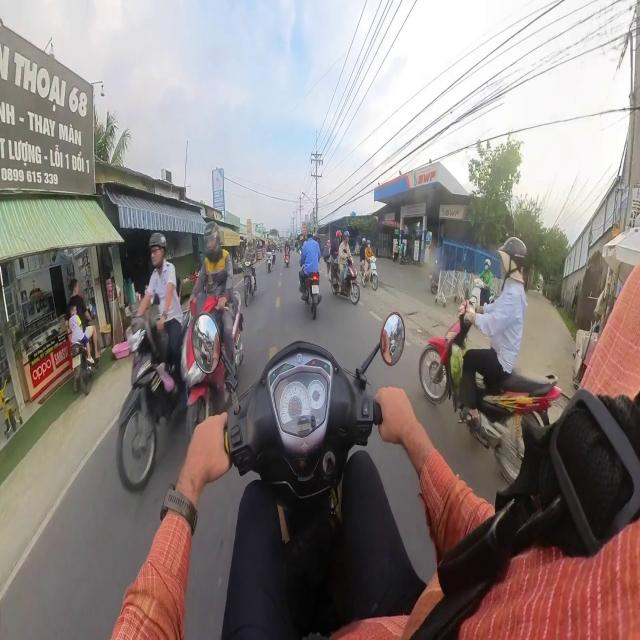motorcycle: (225, 313, 403, 637), (117, 301, 179, 491), (470, 373, 561, 483), (181, 293, 243, 439), (332, 258, 360, 304), (71, 343, 94, 395), (304, 272, 321, 319), (243, 261, 255, 306), (363, 256, 378, 290), (266, 252, 272, 273), (285, 251, 289, 267)
